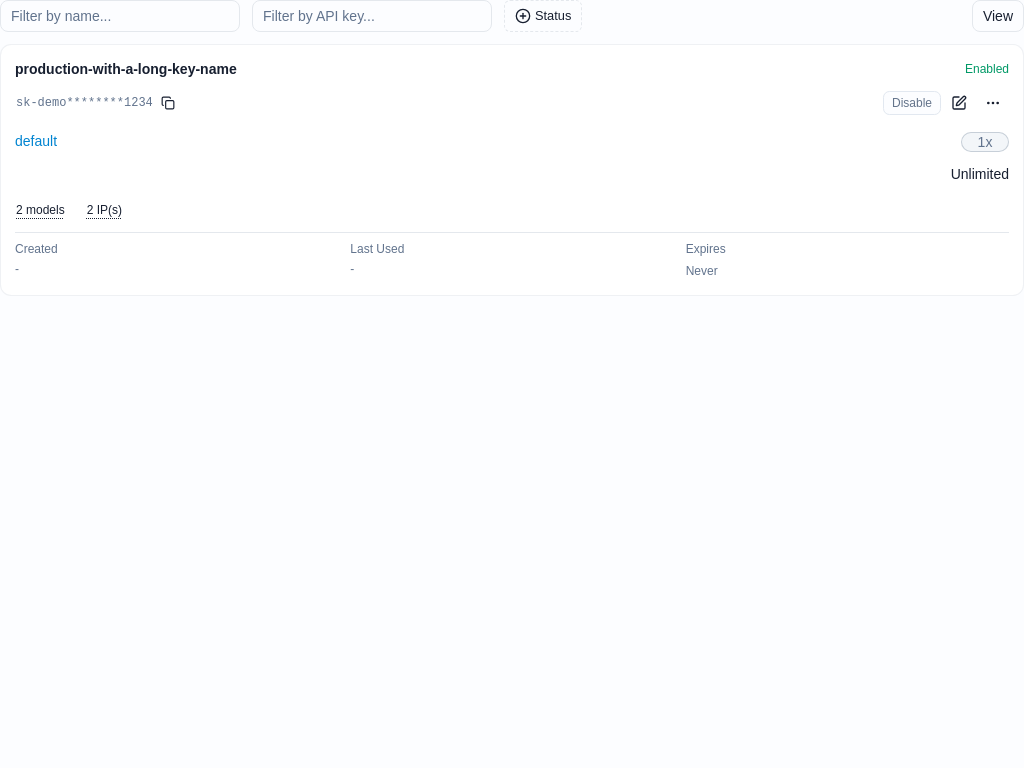
Test case: keeps mobile quota readable and opens complete model and IP restrictions by tapping
The image size is (1024, 768).
Expected: the text "production-with-a-long-key-name" is shown, top-left (15, 59), bottom-right (237, 79)
Expected: the text "Unlimited" does not show "4,490.16", top-left (951, 166), bottom-right (1009, 182)
Click the button with aria-label "Models: 2 model".
click(40, 210)  # box top-left (15, 196), bottom-right (66, 224)
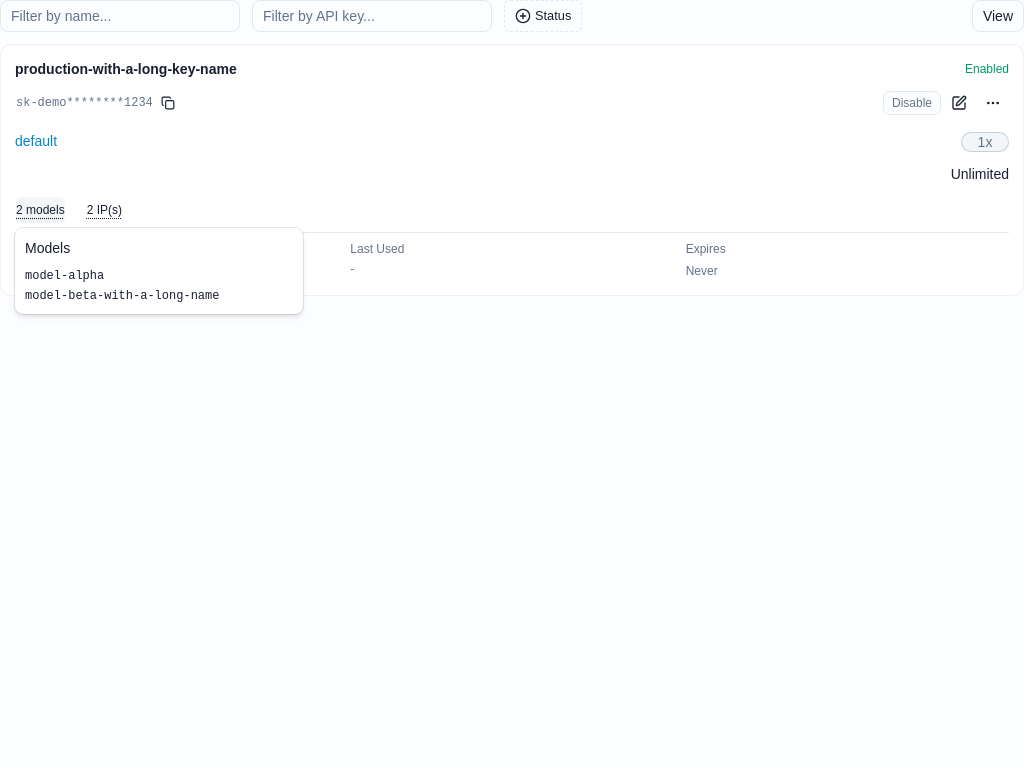
Result: the text "model-alpha" is shown at top-left (25, 269), bottom-right (104, 283)
Result: the text "model-beta-with-a-long-name" is shown at top-left (25, 289), bottom-right (219, 303)
Press Escape
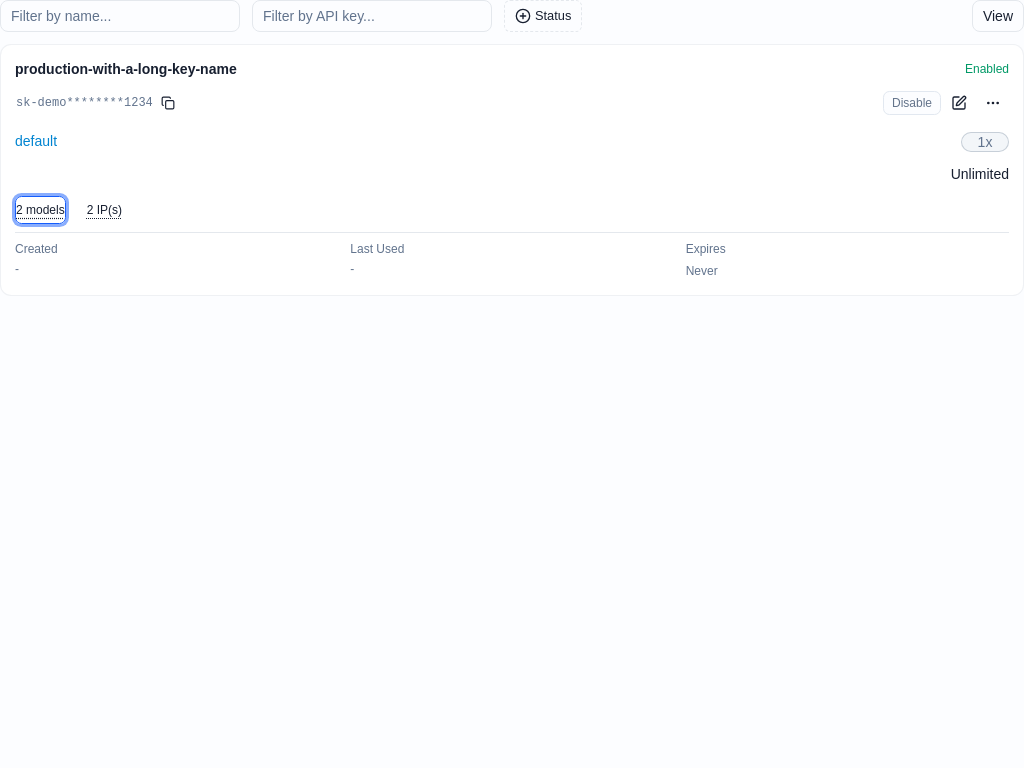
Click the button with aria-label "IP Restriction: 2 IP".
click(104, 210)  # box top-left (86, 196), bottom-right (123, 224)
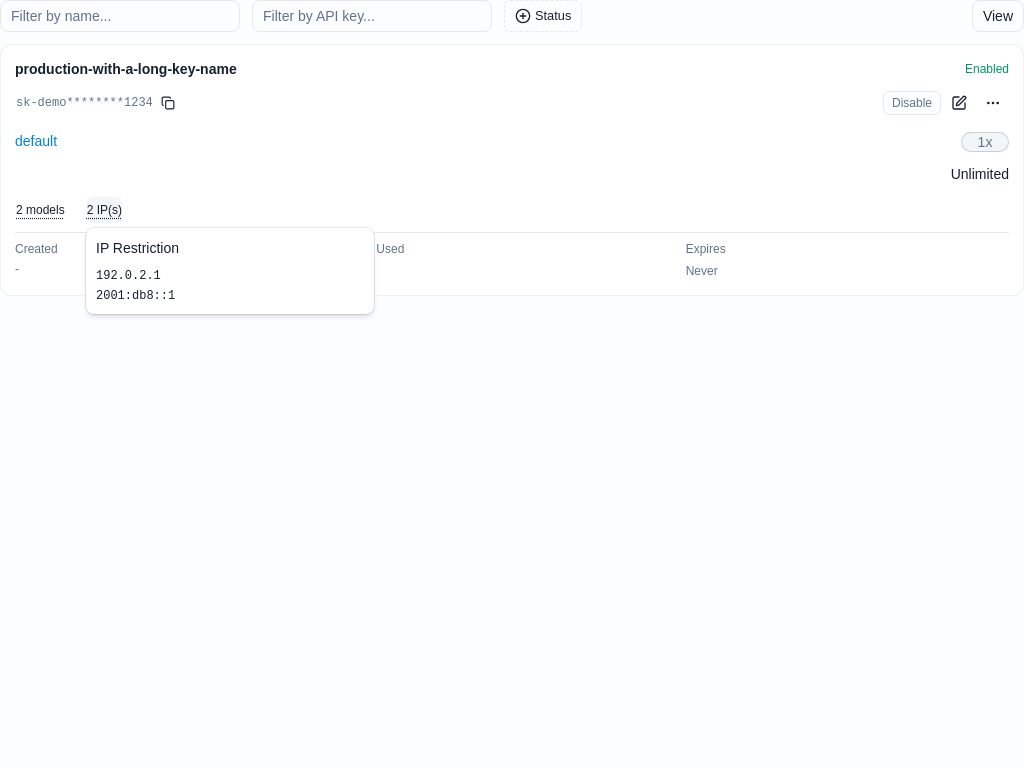
Result: the text "192.0.2.1" is shown at top-left (96, 269), bottom-right (161, 283)
Result: the text "2001:db8::1" is shown at top-left (96, 289), bottom-right (175, 303)
